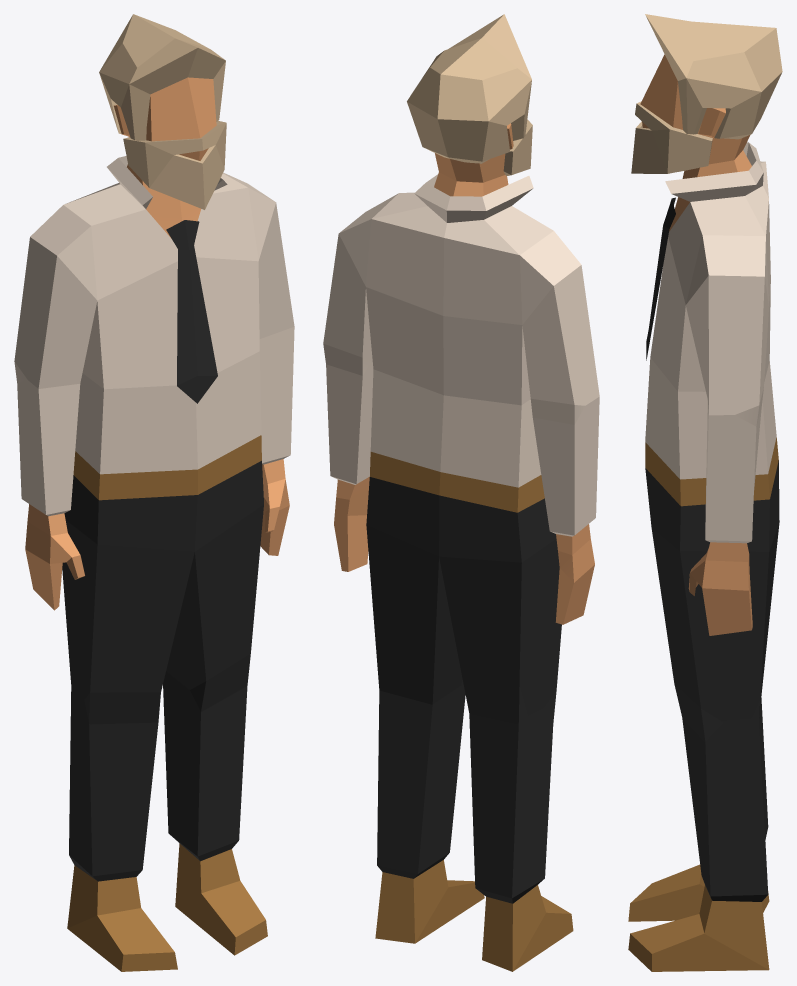
Rendered from people_man-tie.fbx.
3 views of the same model, side by side, from view 1: azimuth 30°, elevation 25°; view 2: azimuth 150°, elevation 25°; view 3: azimuth 270°, elevation 25° (orthographic). The views are drawn at different scales.
Visible parts, largest first — view 1: people_man_tie; view 2: people_man_tie; view 3: people_man_tie.
Boxes of the visible parts, <box> form: people_man_tie: <box>14,14,294,971</box>; people_man_tie: <box>323,14,599,971</box>; people_man_tie: <box>628,14,782,971</box>.
Bounding box in the file's own units: 58.94 × 200 × 30.32.
